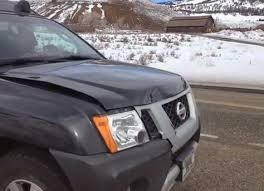Dent: (123, 83, 168, 109)
Smashed: (1, 58, 199, 188)
